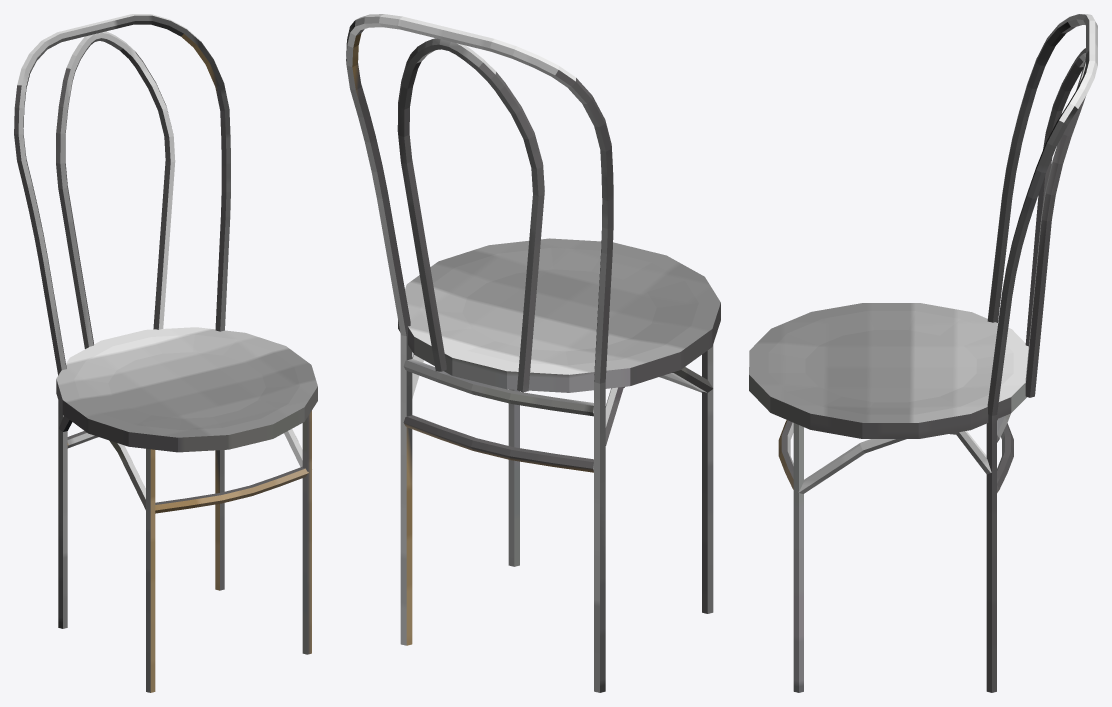
File: SillaCentro.fbx
3 renders of one model, left to right at view 1: azimuth 30°, elevation 25°; view 2: azimuth 150°, elevation 25°; view 3: azimuth 270°, elevation 25°, orthographic. The views are drawn at different scales.
Parts seen in each view (by area): view 1: Chair; view 2: Chair; view 3: Chair.
Boxes of the visible parts, x1,y1,x2,y2 form: Chair: [14, 14, 317, 692]; Chair: [346, 14, 720, 692]; Chair: [749, 14, 1097, 692].
Bounding box in the file's own units: 38.1 × 89.89 × 46.77.
1 material, 1 textured.
